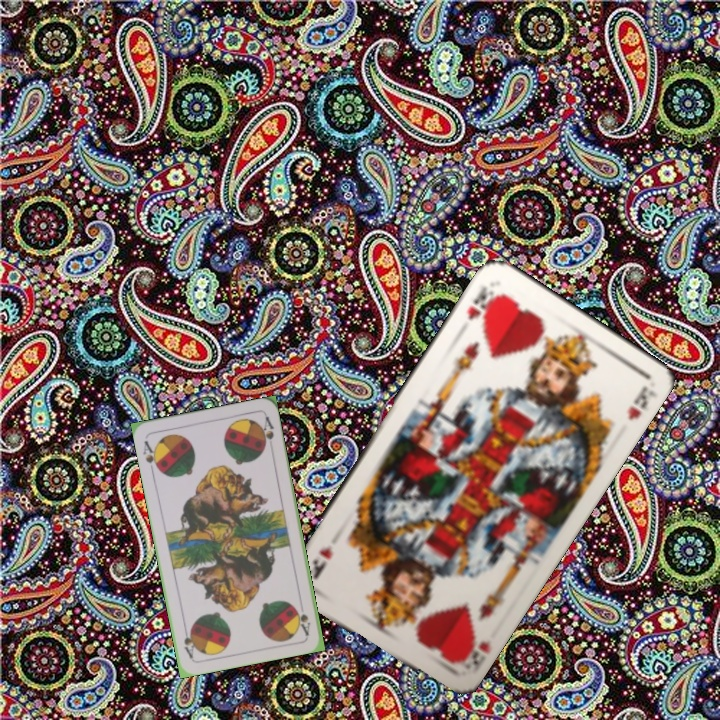HK: (450, 630, 493, 675), (463, 282, 501, 323)
SA: (139, 436, 163, 475), (293, 604, 313, 638)
